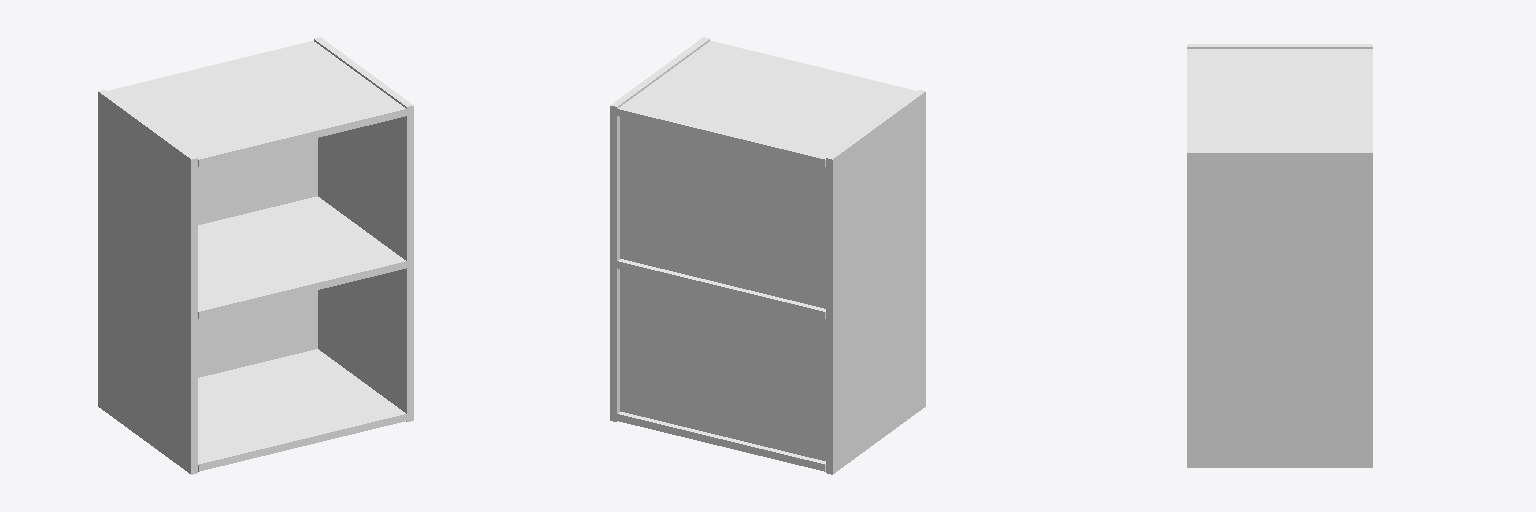
Rendered from meubleChevet.obj.
The picture shows the model from 3 angles: view 1: azimuth 30°, elevation 25°; view 2: azimuth 150°, elevation 25°; view 3: azimuth 270°, elevation 25°; orthographic projection.
Visible parts, largest first — view 1: Cube_16_4, Cube_16_1_5, Cube_15_1, Cube_15_1_2, Cube_15_2_3, Cube_17_6; view 2: Cube_17_6, Cube_16_4, Cube_15_1, Cube_16_1_5, Cube_15_1_2, Cube_15_2_3; view 3: Cube_16_1_5, Cube_15_1, Cube_16_4.
Boxes of the visible parts, box(x1,y1,x2,y2) form: Cube_16_4: box(98, 90, 197, 474); Cube_16_1_5: box(314, 37, 413, 421); Cube_15_1: box(108, 41, 406, 166); Cube_15_1_2: box(198, 196, 406, 318); Cube_15_2_3: box(198, 349, 406, 471); Cube_17_6: box(198, 138, 317, 377); Cube_17_6: box(620, 117, 825, 460); Cube_16_4: box(826, 90, 925, 474); Cube_15_1: box(617, 41, 915, 166); Cube_16_1_5: box(610, 37, 709, 421); Cube_15_1_2: box(617, 259, 825, 318); Cube_15_2_3: box(617, 412, 825, 471); Cube_16_1_5: box(1187, 149, 1372, 467); Cube_15_1: box(1187, 49, 1372, 148); Cube_16_4: box(1187, 44, 1372, 48).
Bounding box in the file's own units: 39.87 × 54 × 29.